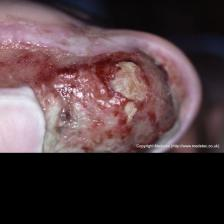Wound: (0, 15, 197, 153)
